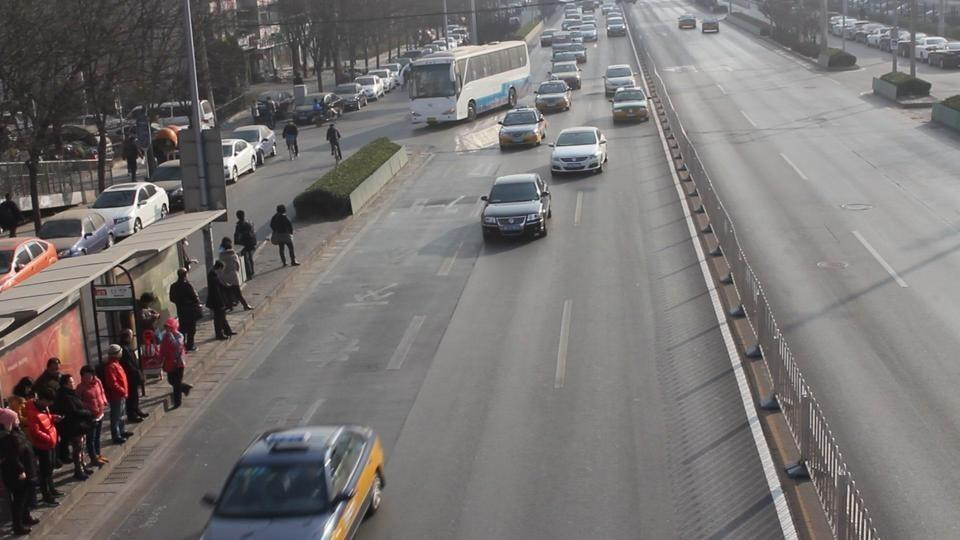car: (199, 424, 387, 539), (480, 172, 554, 239), (87, 182, 170, 240), (37, 210, 113, 258), (0, 236, 59, 291), (186, 138, 257, 183), (550, 126, 609, 174), (496, 107, 548, 151), (227, 126, 276, 164), (150, 161, 185, 213), (290, 94, 341, 125), (534, 78, 572, 114), (611, 88, 650, 123), (322, 85, 367, 111), (603, 65, 635, 100), (550, 59, 582, 92), (354, 75, 386, 100), (931, 45, 960, 71), (917, 36, 948, 58), (607, 14, 626, 36), (677, 15, 697, 30), (701, 19, 719, 33)
